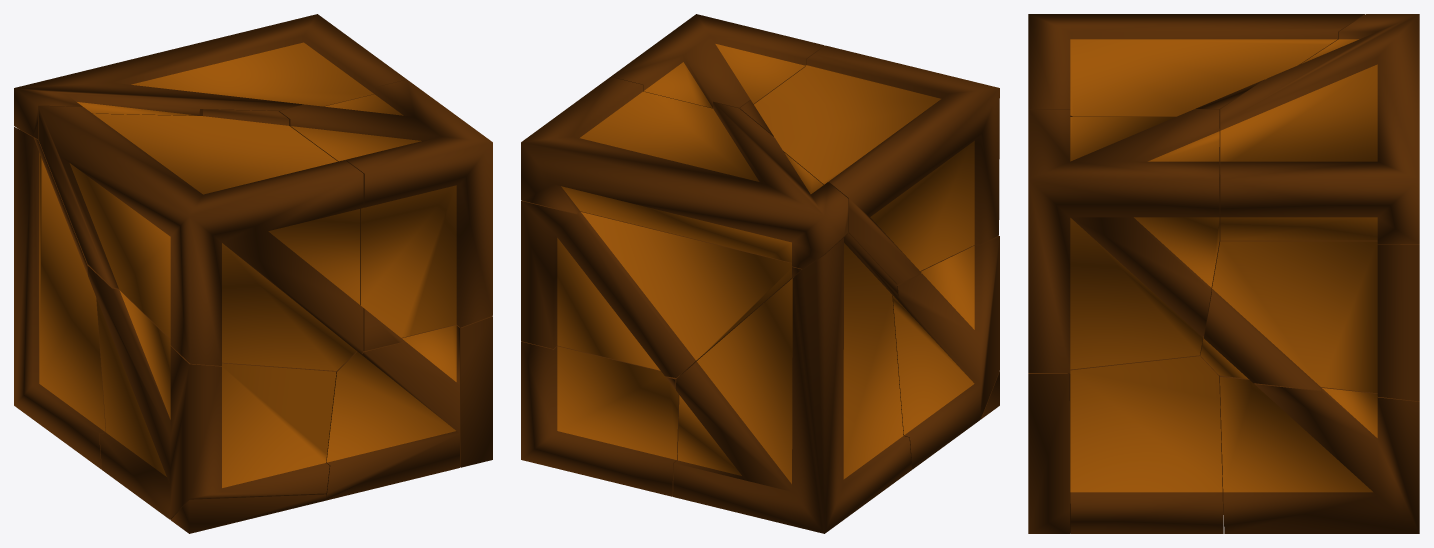
Rendered from CrateBoxTriagle_Parts.fbx.
3 views of the same model, side by side, from view 1: azimuth 30°, elevation 25°; view 2: azimuth 150°, elevation 25°; view 3: azimuth 270°, elevation 25° (orthographic). The views are drawn at different scales.
Visible parts, largest first — view 1: crate-box-traingle.parts_cell.007, crate-box-traingle.parts_cell.008, crate-box-traingle.parts_cell.001, crate-box-traingle.parts_cell.005, crate-box-traingle.parts_cell.009, crate-box-traingle.parts_cell.003, crate-box-traingle.parts_cell, crate-box-traingle.parts_cell.002; view 2: crate-box-traingle.parts_cell.009, crate-box-traingle.parts_cell.005, crate-box-traingle.parts_cell.007, crate-box-traingle.parts_cell.006, crate-box-traingle.parts_cell.004, crate-box-traingle.parts_cell.008, crate-box-traingle.parts_cell.001; view 3: crate-box-traingle.parts_cell.001, crate-box-traingle.parts_cell.005, crate-box-traingle.parts_cell.006, crate-box-traingle.parts_cell.004, crate-box-traingle.parts_cell.007, crate-box-traingle.parts_cell.003, crate-box-traingle.parts_cell.
Boxes of the visible parts, box(x1,y1,x2,y2) form: crate-box-traingle.parts_cell.007: box(38, 106, 363, 370); crate-box-traingle.parts_cell.008: box(87, 265, 336, 519); crate-box-traingle.parts_cell.001: box(279, 79, 492, 351); crate-box-traingle.parts_cell.005: box(14, 14, 406, 140); crate-box-traingle.parts_cell.009: box(14, 127, 105, 469); crate-box-traingle.parts_cell.003: box(326, 324, 460, 500); crate-box-traingle.parts_cell: box(460, 316, 492, 467); crate-box-traingle.parts_cell.002: box(171, 494, 326, 533); crate-box-traingle.parts_cell.009: box(673, 233, 911, 533); crate-box-traingle.parts_cell.005: box(521, 77, 848, 268); crate-box-traingle.parts_cell.007: box(739, 45, 999, 284); crate-box-traingle.parts_cell.006: box(521, 200, 801, 377); crate-box-traingle.parts_cell.004: box(521, 341, 686, 496); crate-box-traingle.parts_cell.008: box(892, 236, 999, 469); crate-box-traingle.parts_cell.001: box(611, 14, 824, 108); crate-box-traingle.parts_cell.001: box(1028, 109, 1219, 372); crate-box-traingle.parts_cell.005: box(1220, 14, 1419, 244); crate-box-traingle.parts_cell.006: box(1200, 175, 1419, 401); crate-box-traingle.parts_cell.004: box(1220, 375, 1419, 533); crate-box-traingle.parts_cell.007: box(1028, 14, 1364, 176); crate-box-traingle.parts_cell.003: box(1068, 354, 1223, 533); crate-box-traingle.parts_cell: box(1028, 373, 1069, 533).
Size of the model in its own units: 100 by 100 by 100.
1 material, 1 textured.
